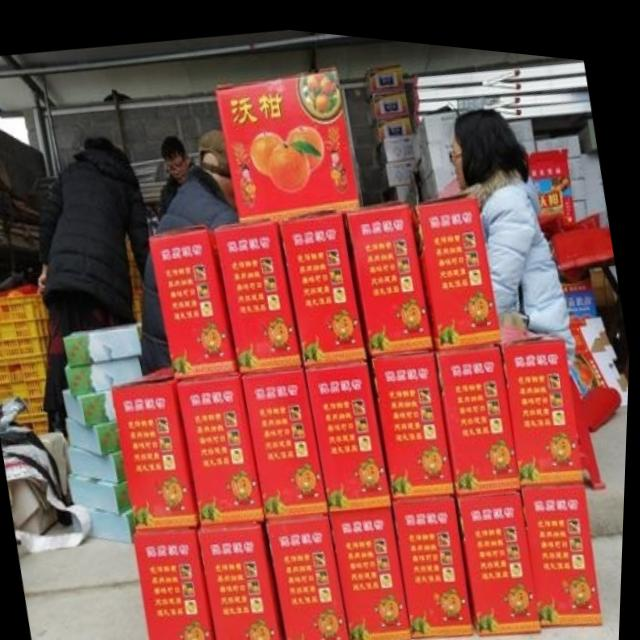box: (217, 60, 365, 218), (280, 202, 374, 361), (410, 182, 504, 340), (116, 363, 205, 527), (177, 366, 270, 521), (215, 213, 306, 370), (306, 350, 397, 505), (348, 191, 436, 350), (436, 328, 523, 486), (150, 224, 241, 374), (242, 362, 331, 514), (459, 476, 545, 625), (374, 339, 459, 489), (504, 326, 586, 475), (523, 471, 607, 613), (331, 498, 416, 637), (396, 485, 478, 628), (270, 505, 356, 640), (202, 514, 292, 640), (138, 522, 222, 640)
